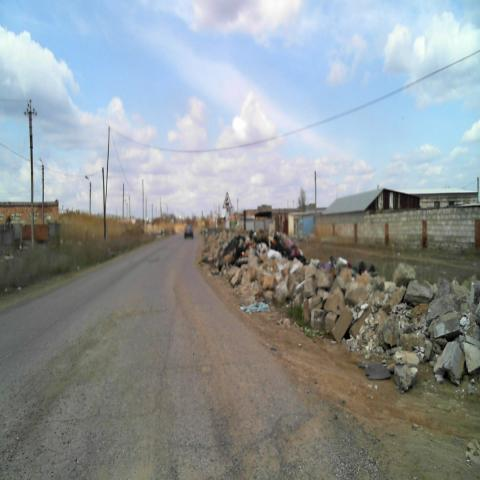1_2: (221, 191, 234, 210)
